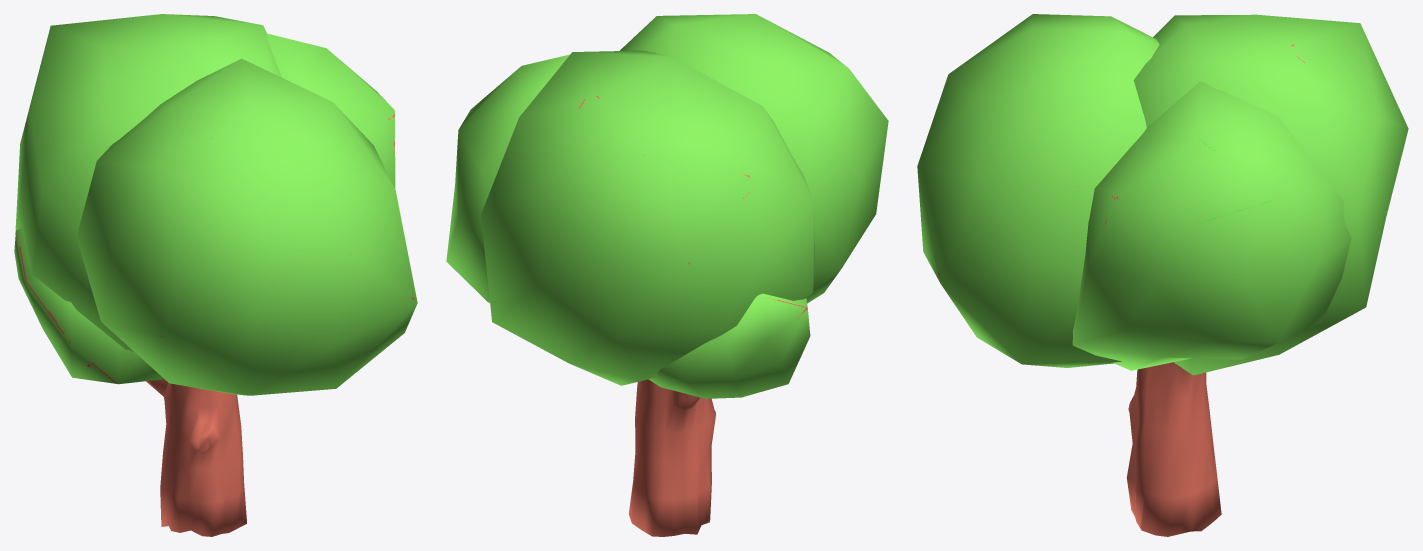
File: tree.gltf
3 views of the same model, side by side, from view 1: azimuth 30°, elevation 25°; view 2: azimuth 150°, elevation 25°; view 3: azimuth 270°, elevation 25° (orthographic). The views are drawn at different scales.
Visible parts, largest first — view 1: tree; view 2: tree; view 3: tree.
Part boxes in pixels (bbox=[...]): tree: bbox=[14, 14, 417, 536]; tree: bbox=[446, 14, 888, 536]; tree: bbox=[917, 14, 1408, 536].
Size of the model in its own units: 147 by 195 by 175.
1 material, 1 textured.
